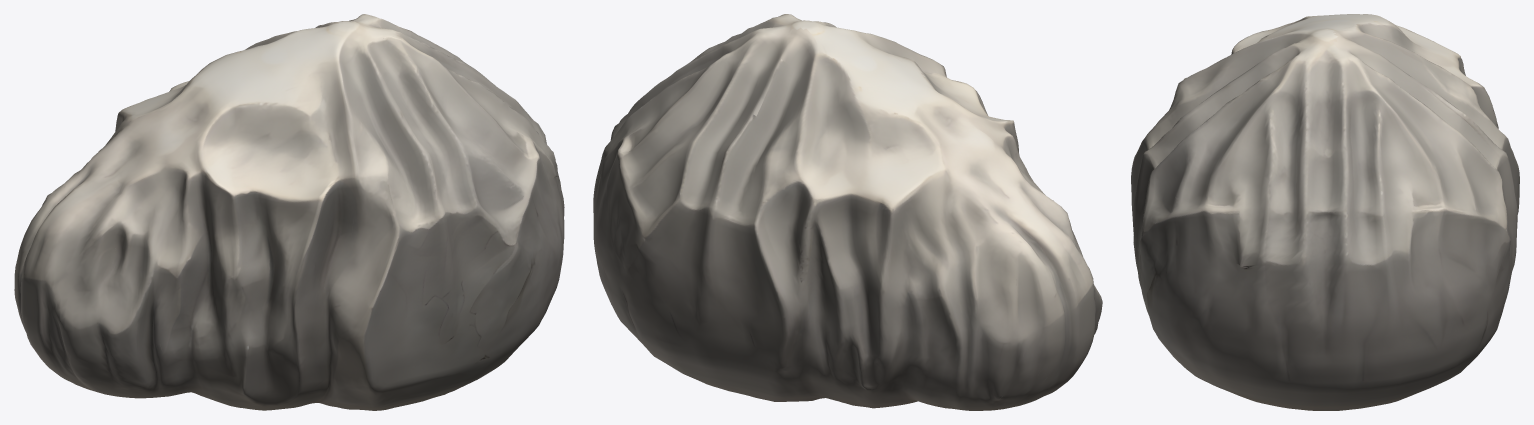
The model's file is stone2.fbx.
3 views of the same model, side by side, from view 1: azimuth 30°, elevation 25°; view 2: azimuth 150°, elevation 25°; view 3: azimuth 270°, elevation 25° (orthographic). The views are drawn at different scales.
Parts seen in each view (by area): view 1: model; view 2: model; view 3: model.
Part boxes in pixels (left/top/right/bottom): model: left=14, top=14, right=564, bottom=410; model: left=593, top=14, right=1102, bottom=410; model: left=1131, top=14, right=1519, bottom=410.
Bounding box in the file's own units: 190 × 121 × 133.
1 material, 1 textured.
